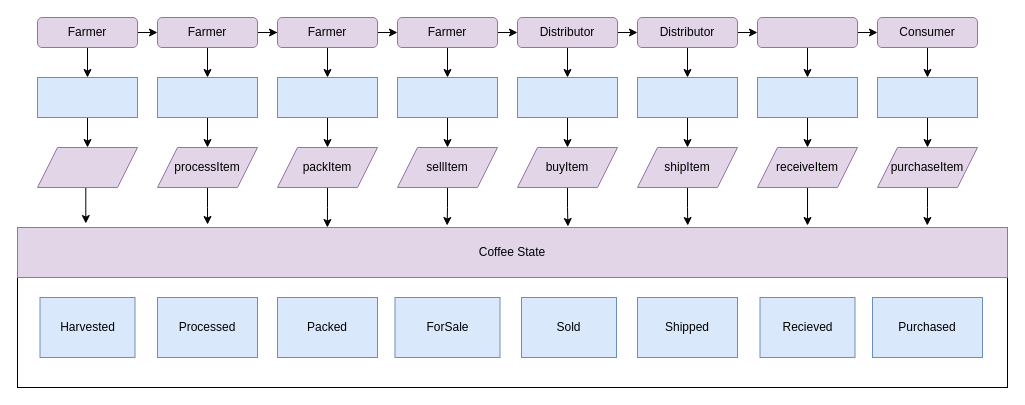
Some shapes in this 1025 by 405 pixel diagram are drawn without their labels. The centre of each missing label's shape, as x and y in pixels:
harvestItem: (87,167)
isConsumer: (927,97)
isDistributor isBought: (687,97)
isDistributor isSold: (567,97)
isFarmer: (87,97)
isFarmer isHarvested: (207,97)
isFarmer isPacked: (447,97)
isFarmer isProcessed: (327,97)
isRetailer isShipped: (807,97)
Retailer: (807,32)
